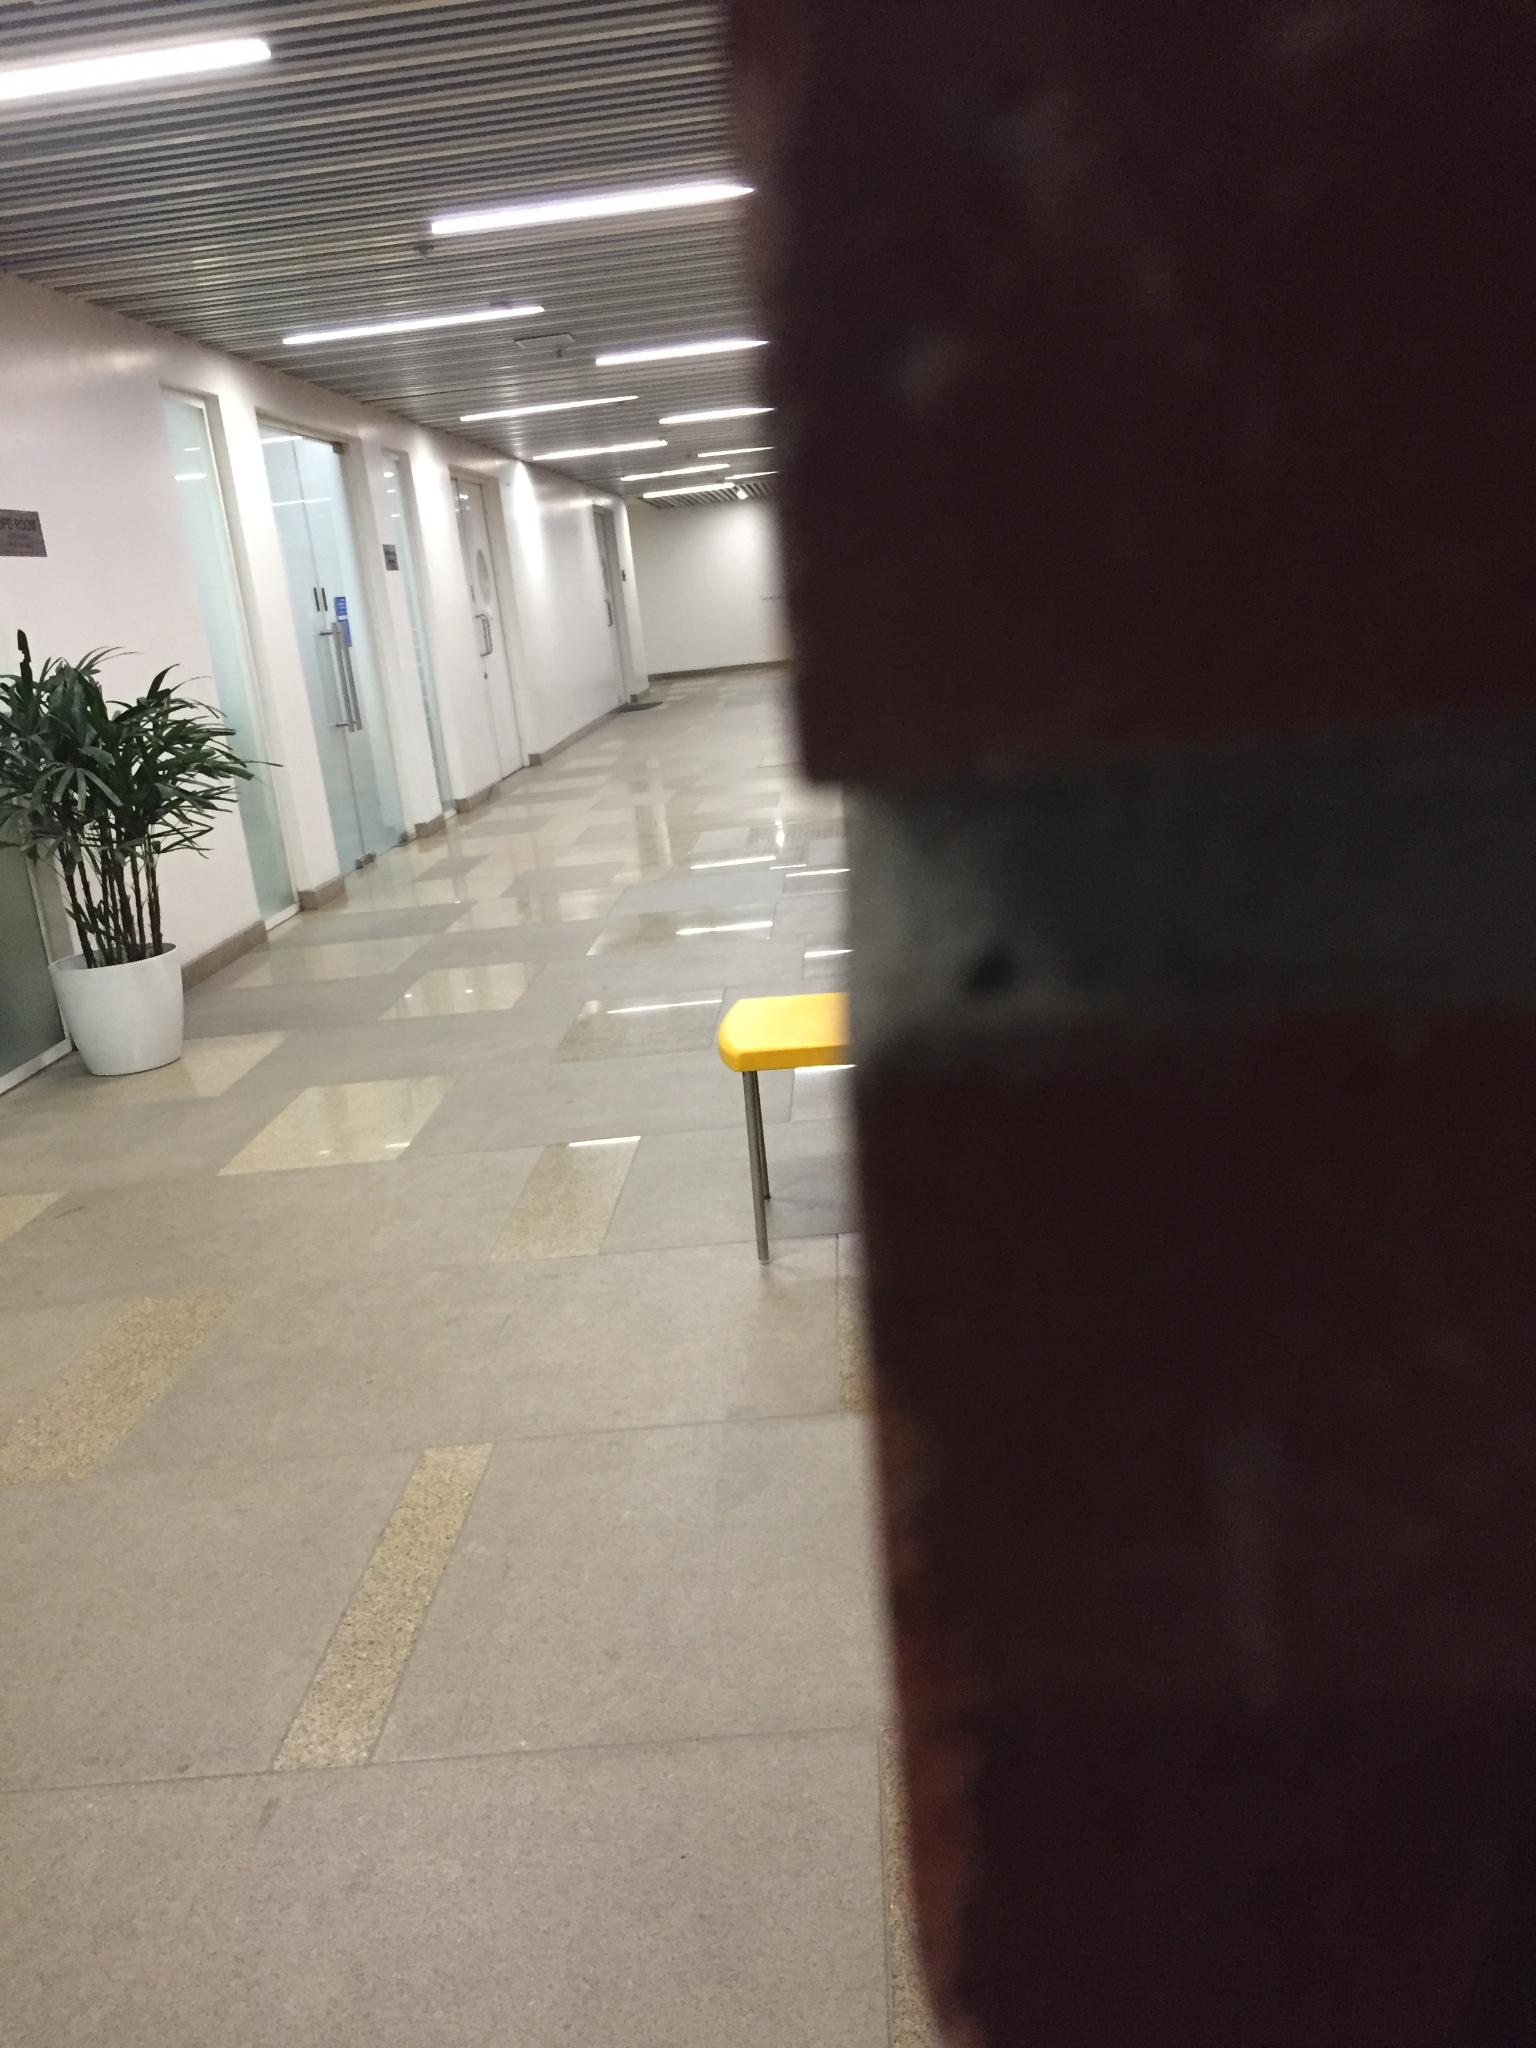chair: (715, 990, 857, 1264)
